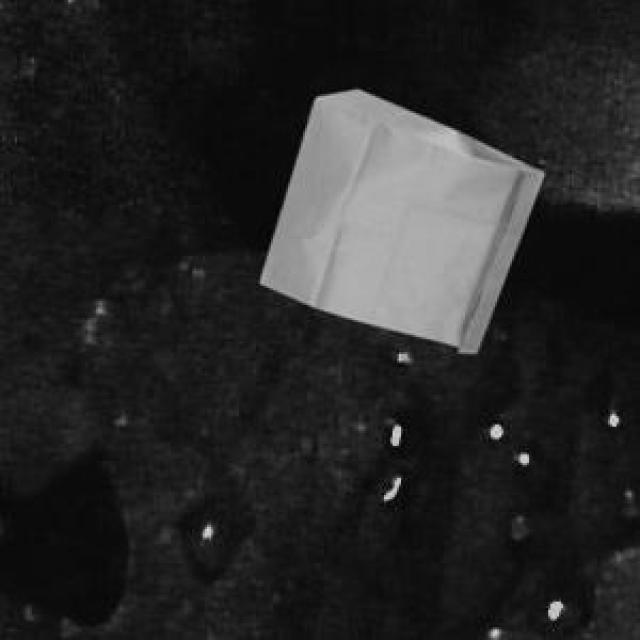paper: (256, 85, 540, 348)
